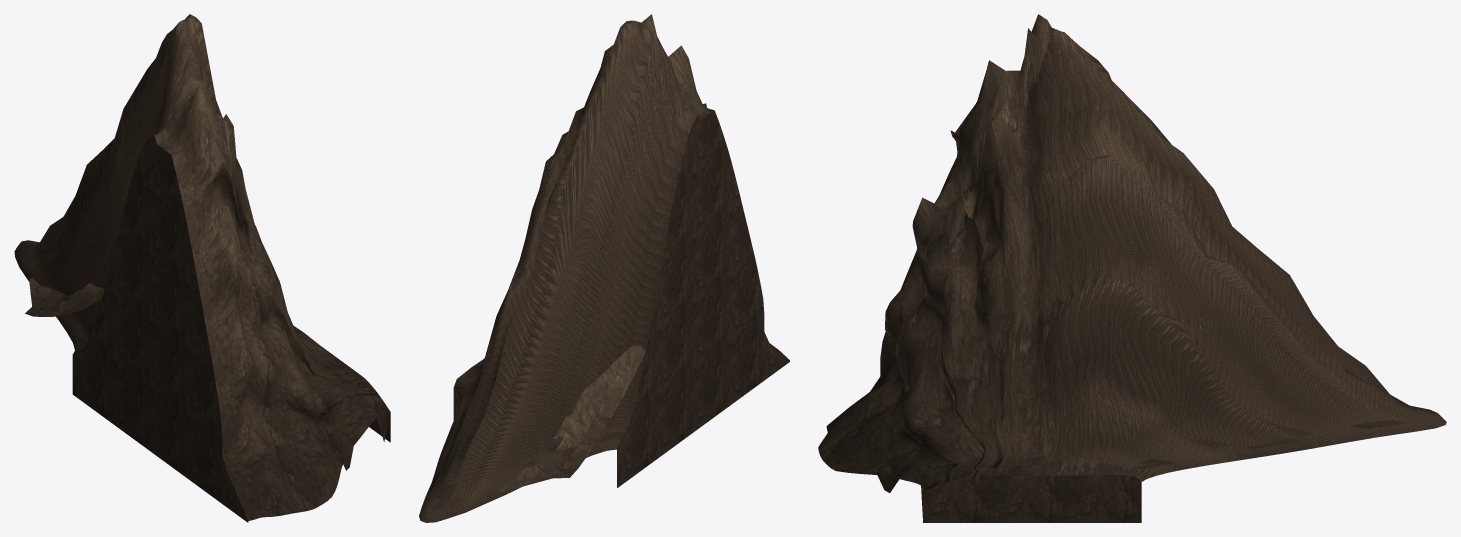
Rendered from seacliff_endcap_right_h8_b_v5_dead.glb.
3 renders of one model, left to right at view 1: azimuth 30°, elevation 25°; view 2: azimuth 150°, elevation 25°; view 3: azimuth 270°, elevation 25°, orthographic. The views are drawn at different scales.
Visible parts, largest first — view 1: seacliff_endcap_right_h8_b; view 2: seacliff_endcap_right_h8_b; view 3: seacliff_endcap_right_h8_b.
Boxes of the visible parts, x1,y1,x2,y2 form: seacliff_endcap_right_h8_b: [14, 14, 390, 522]; seacliff_endcap_right_h8_b: [419, 14, 789, 522]; seacliff_endcap_right_h8_b: [818, 14, 1446, 522].
Bounding box in the file's own units: 6 × 12.72 × 16.74.
2 materials, 2 textured.
